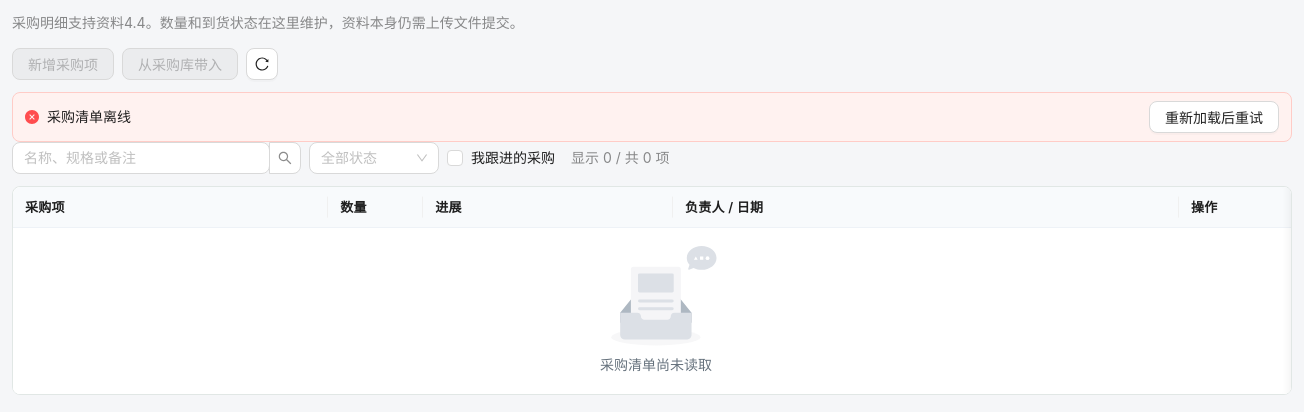
initial load failure remains visible and can recover without fake empty success
Expected: the text "采购清单离线" is shown, [47,108,131,125]
Expected: the button "新增采购项" is disabled, [12,48,114,80]
Step 1. Click the button "重新加载后重试" → x=1214, y=117, box [1149,101,1279,133]
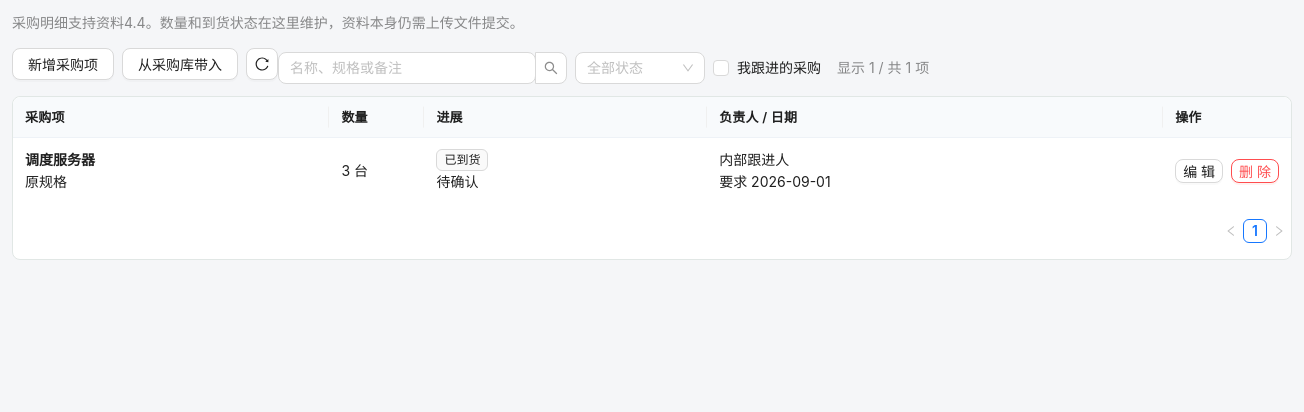
Expected: the text "调度服务器" is shown, [25,151,95,168]
